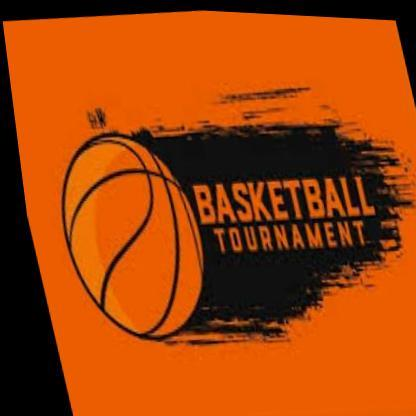basketball: (37, 123, 217, 350)
